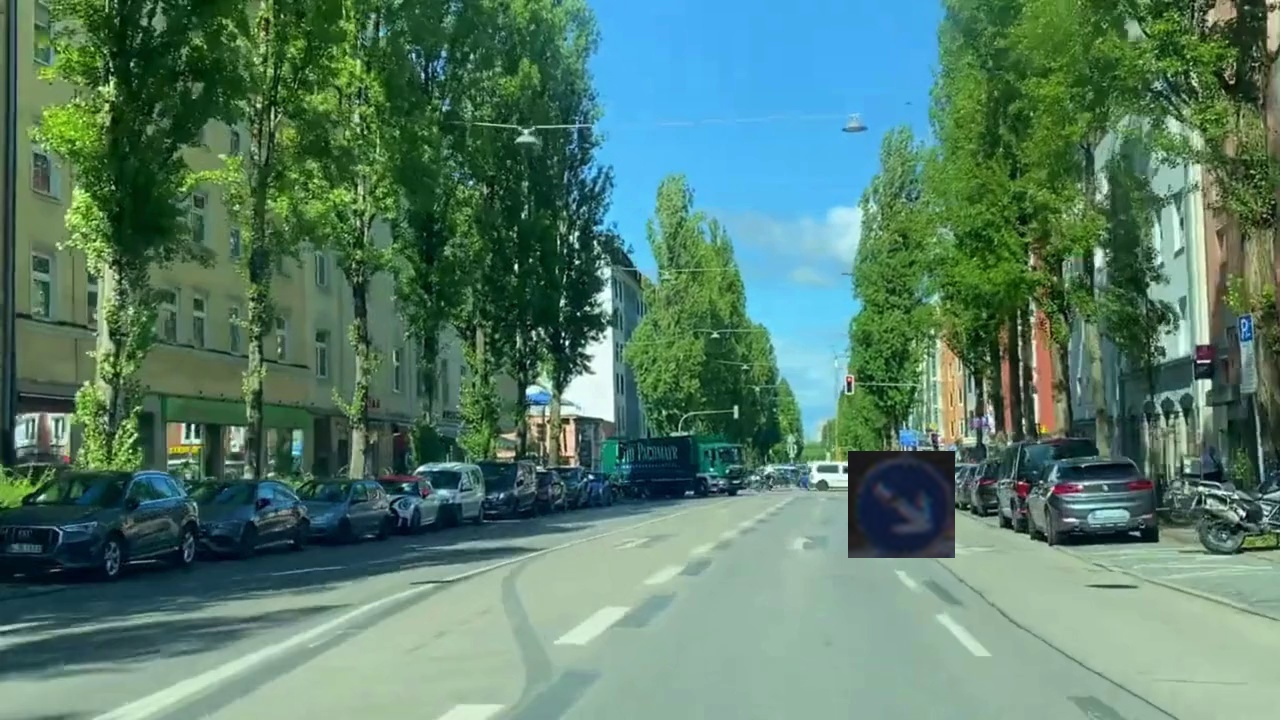Keep right: (848, 451, 955, 558)
